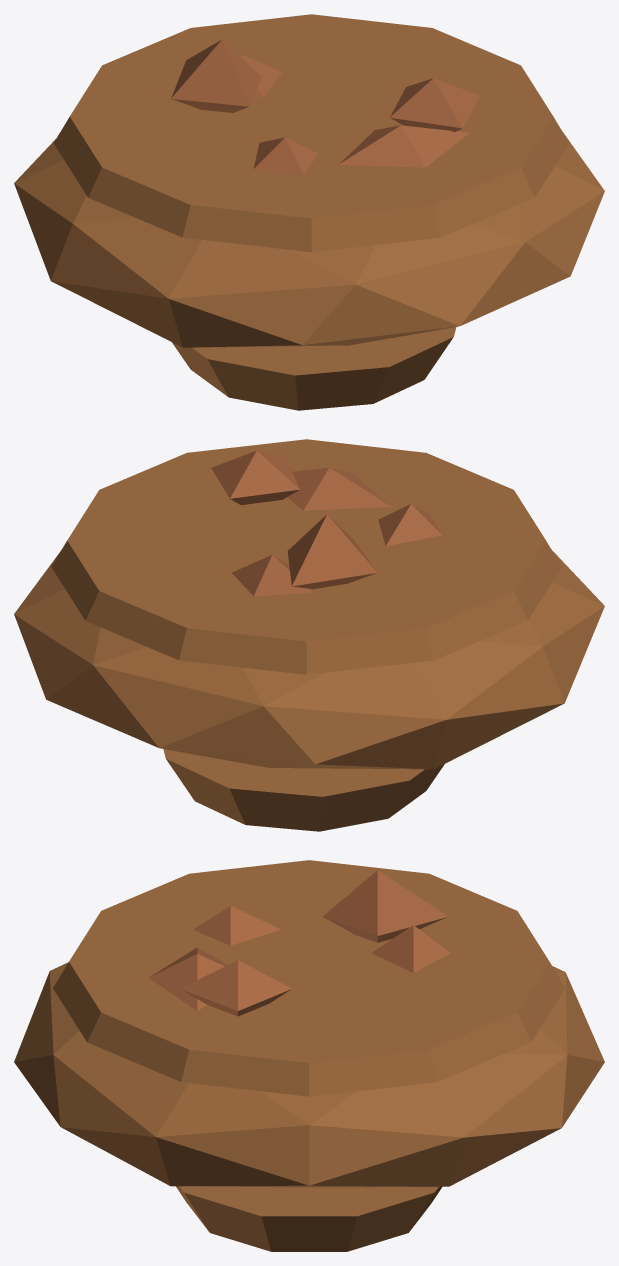
File: hearty_stew.glb
3 renders of one model, top to bottom at view 1: azimuth 30°, elevation 25°; view 2: azimuth 150°, elevation 25°; view 3: azimuth 270°, elevation 25°, orthographic.
Visible parts, largest first — view 1: hearty_stew.001; view 2: hearty_stew.001; view 3: hearty_stew.001.
Boxes of the visible parts, <box> form: hearty_stew.001: <box>14,14,604,410</box>; hearty_stew.001: <box>14,439,604,831</box>; hearty_stew.001: <box>14,860,604,1251</box>.
Bounding box in the file's own units: 0.21 × 0.1197 × 0.2097.
